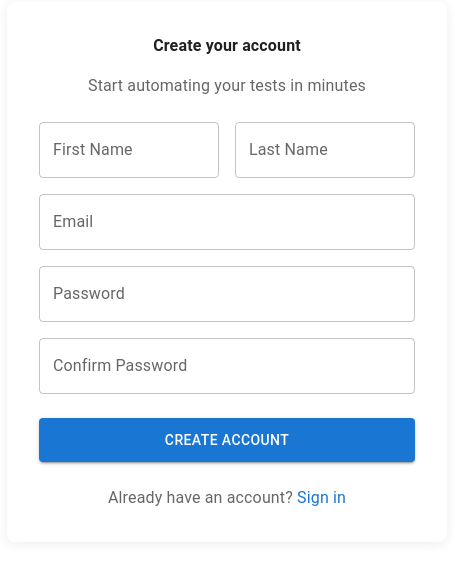
Scenario: SignUpPage › shows password too short error for passwords under 8 characters
Type "new@example.com" into the field labelled "Email" at (227, 222), box x1=39 y1=194 x2=415 y2=250
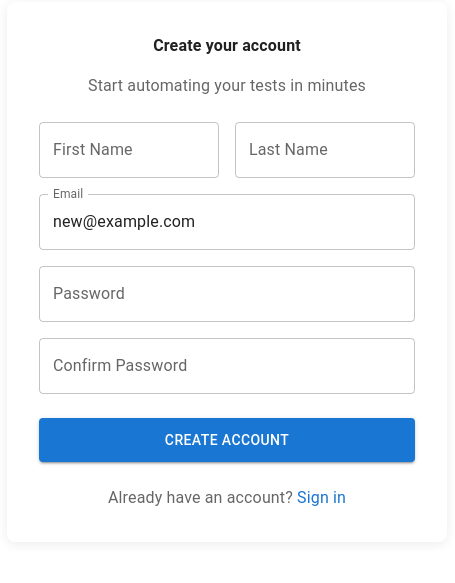
Type "Ab1" into the password field labelled "Password" at (227, 294), box x1=39 y1=266 x2=415 y2=322
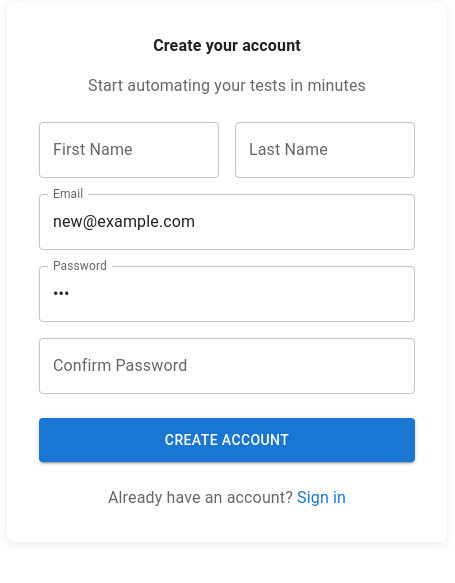
Type "Ab1" into the password field labelled "Confirm Password" at (227, 366), box x1=39 y1=338 x2=415 y2=394
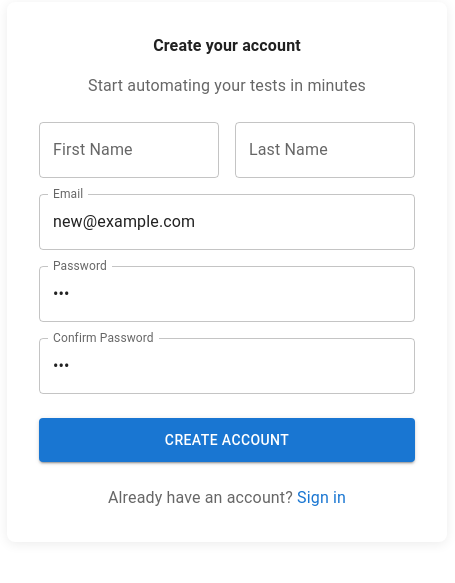
Click the button "Create Account" at (227, 440), box x1=39 y1=418 x2=415 y2=462
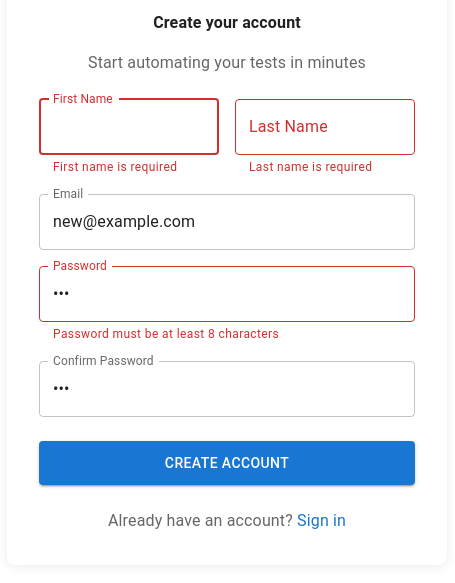
expect the text "Password must be at least 8 characters" is shown: met, box x1=53 y1=327 x2=279 y2=341
